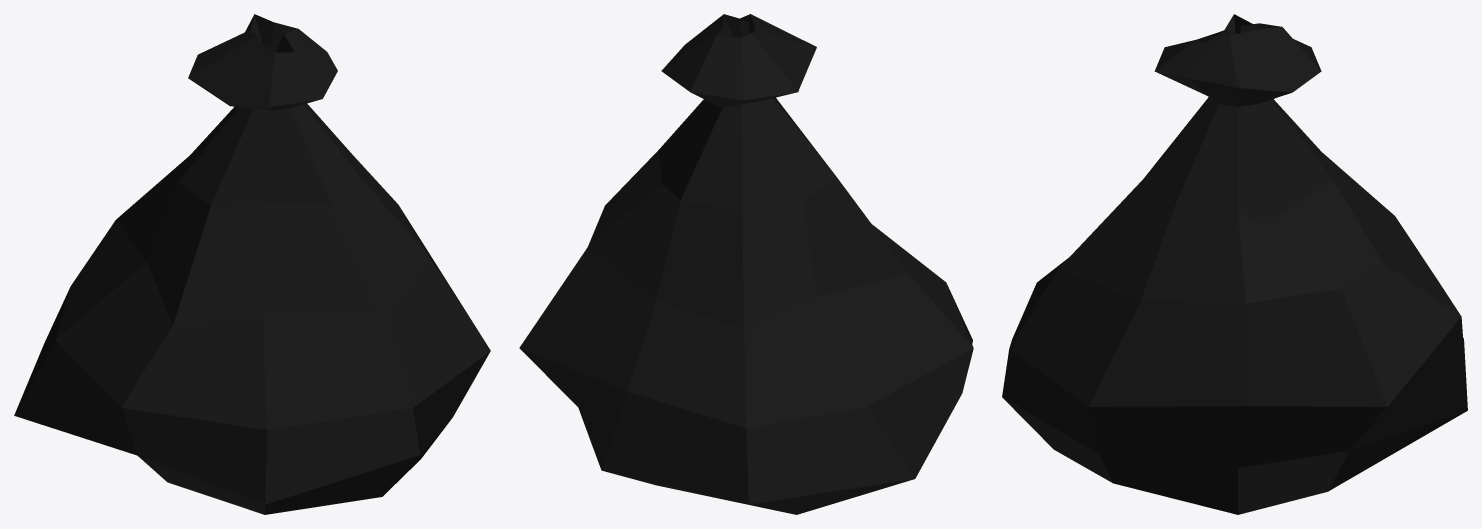
Rendered from Trash_Bag01.fbx.
3 renders of one model, left to right at view 1: azimuth 30°, elevation 25°; view 2: azimuth 150°, elevation 25°; view 3: azimuth 270°, elevation 25°, orthographic. The views are drawn at different scales.
Visible parts, largest first — view 1: TrashBag01; view 2: TrashBag01; view 3: TrashBag01.
Part boxes in pixels (bbox=[...]): TrashBag01: bbox=[14, 14, 490, 514]; TrashBag01: bbox=[519, 14, 973, 514]; TrashBag01: bbox=[1002, 14, 1467, 514].
Bounding box in the file's own units: 9.12 × 9.76 × 9.84.
